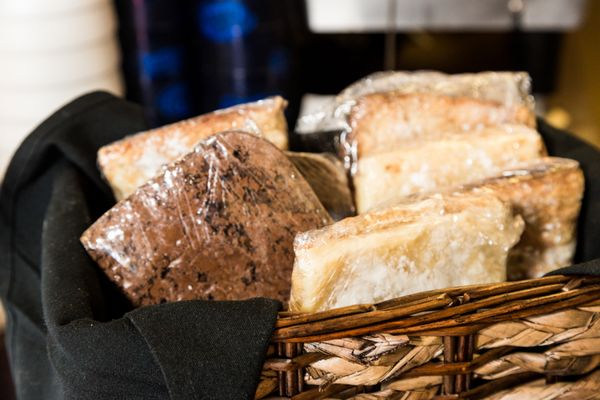soup: (79, 128, 334, 313), (291, 161, 586, 312)
